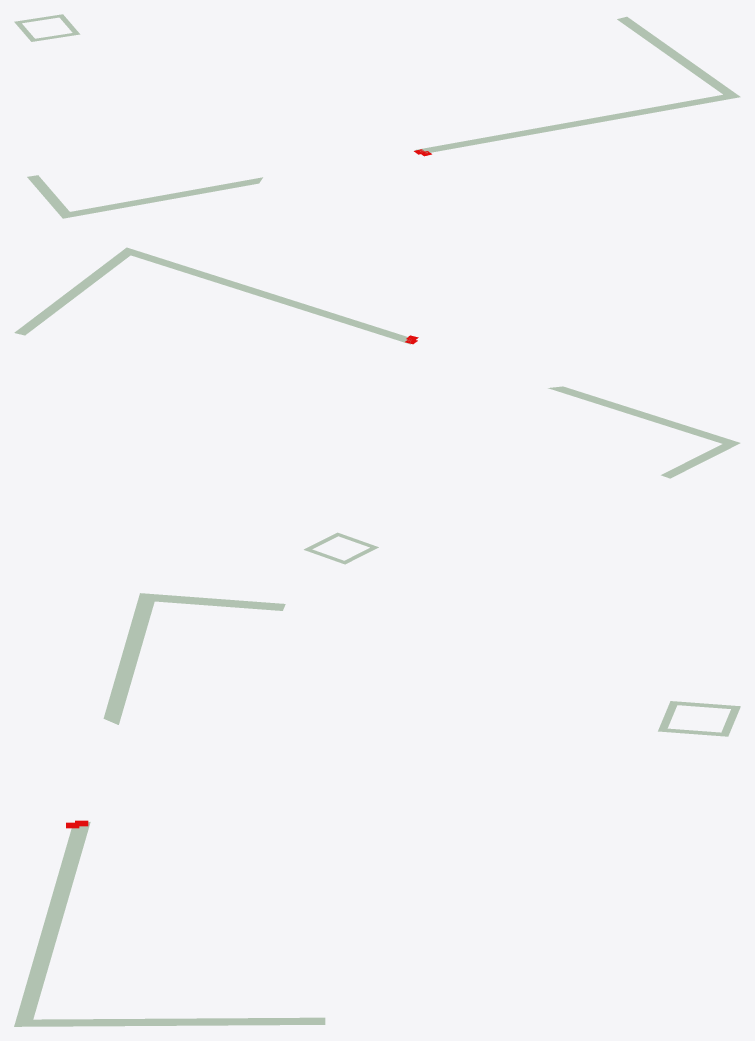
File: floor-487400.glb
The picture shows the model from 3 angles, top to bottom: view 1: azimuth 30°, elevation 25°; view 2: azimuth 150°, elevation 25°; view 3: azimuth 270°, elevation 25°; orthographic projection. The views are drawn at different scales.
Visible parts, largest first — view 1: SectionBody_3,f5be9884-1ec4-4bdf-83fe-4a4f57898bca, SectionBody_9,188ced9f-8953-4fa2-9da6-4d38ebbba89a, SectionBody_6,817ea7ed-bc4a-429e-8aee-e4c509cef56e, SectionBody_8,4a787c18-0a65-4c3d-a247-b4a747b72b2c; view 2: SectionBody_3,f5be9884-1ec4-4bdf-83fe-4a4f57898bca, SectionBody_9,188ced9f-8953-4fa2-9da6-4d38ebbba89a, SectionBody_6,817ea7ed-bc4a-429e-8aee-e4c509cef56e, SectionBody_8,4a787c18-0a65-4c3d-a247-b4a747b72b2c; view 3: SectionBody_3,f5be9884-1ec4-4bdf-83fe-4a4f57898bca, SectionBody_6,817ea7ed-bc4a-429e-8aee-e4c509cef56e, SectionBody_9,188ced9f-8953-4fa2-9da6-4d38ebbba89a, SectionBody_8,4a787c18-0a65-4c3d-a247-b4a747b72b2c.
Boxes of the visible parts, x1,y1,x2,y2 form: SectionBody_3,f5be9884-1ec4-4bdf-83fe-4a4f57898bca: (414, 92, 740, 152); SectionBody_9,188ced9f-8953-4fa2-9da6-4d38ebbba89a: (59, 177, 262, 218); SectionBody_6,817ea7ed-bc4a-429e-8aee-e4c509cef56e: (617, 16, 733, 94); SectionBody_8,4a787c18-0a65-4c3d-a247-b4a747b72b2c: (27, 175, 69, 213); SectionBody_3,f5be9884-1ec4-4bdf-83fe-4a4f57898bca: (121, 247, 410, 344); SectionBody_9,188ced9f-8953-4fa2-9da6-4d38ebbba89a: (548, 386, 740, 446); SectionBody_6,817ea7ed-bc4a-429e-8aee-e4c509cef56e: (14, 252, 130, 335); SectionBody_8,4a787c18-0a65-4c3d-a247-b4a747b72b2c: (661, 444, 732, 478); SectionBody_3,f5be9884-1ec4-4bdf-83fe-4a4f57898bca: (14, 822, 90, 1026); SectionBody_6,817ea7ed-bc4a-429e-8aee-e4c509cef56e: (31, 1017, 325, 1026); SectionBody_9,188ced9f-8953-4fa2-9da6-4d38ebbba89a: (103, 593, 156, 724); SectionBody_8,4a787c18-0a65-4c3d-a247-b4a747b72b2c: (155, 594, 285, 610).
Bounding box in the file's own units: 30107 × 0 × 21325.
